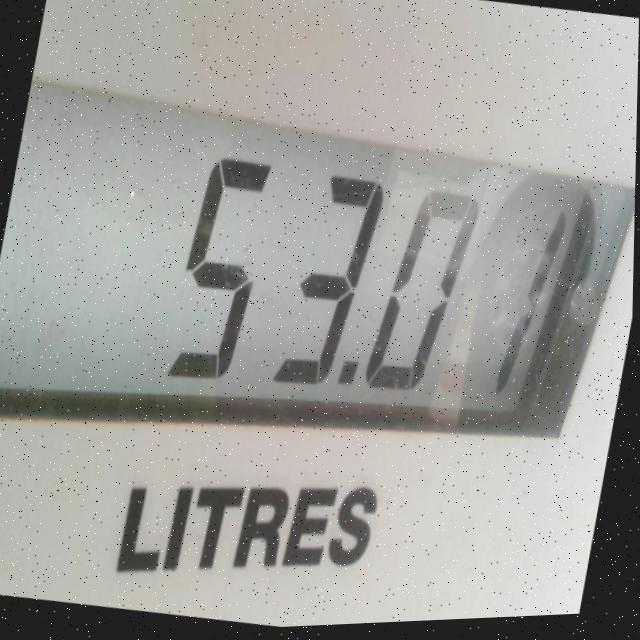.: (328, 338, 370, 412)
0: (356, 177, 490, 424)
1: (482, 201, 573, 398)
3: (271, 169, 386, 398)
5: (137, 144, 304, 428)
